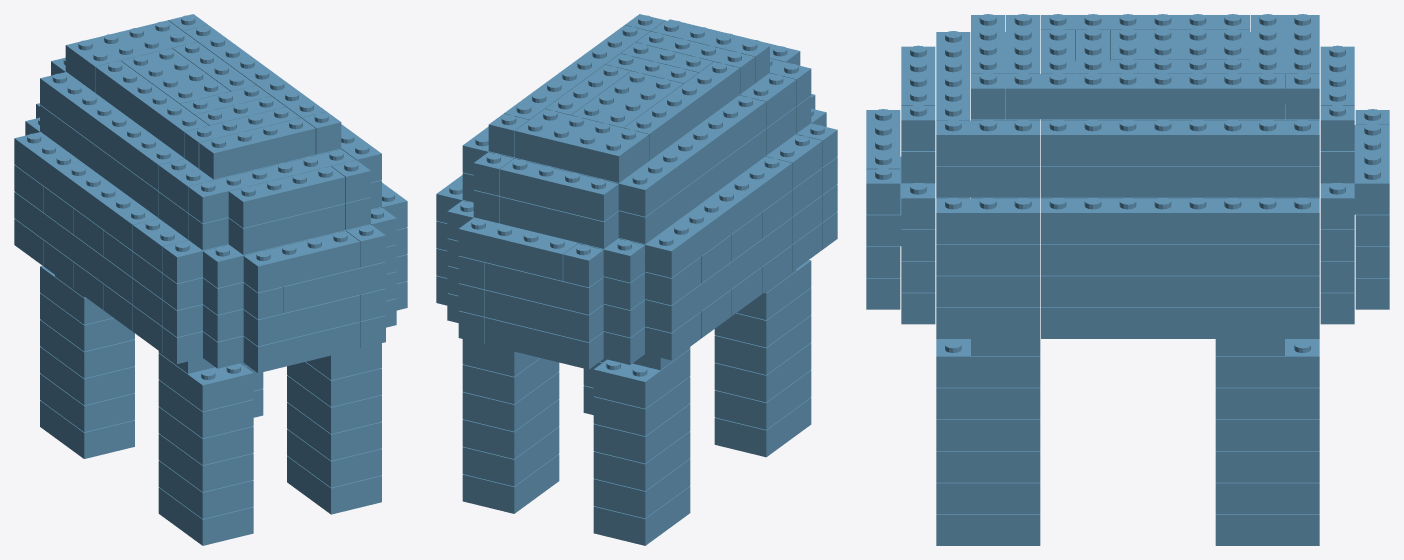
The model's file is 146_car_L1.glb.
The picture shows the model from 3 angles, left to right: view 1: azimuth 30°, elevation 25°; view 2: azimuth 150°, elevation 25°; view 3: azimuth 270°, elevation 25°; orthographic projection. The views are drawn at different scales.
Size of the model in its own units: 8.98 by 14.13 by 14.98.
